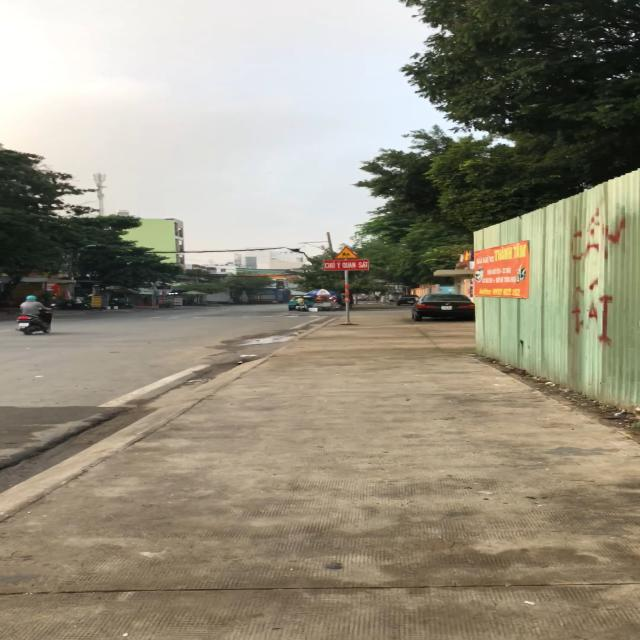Bien bao tre em: (333, 243, 359, 260)
